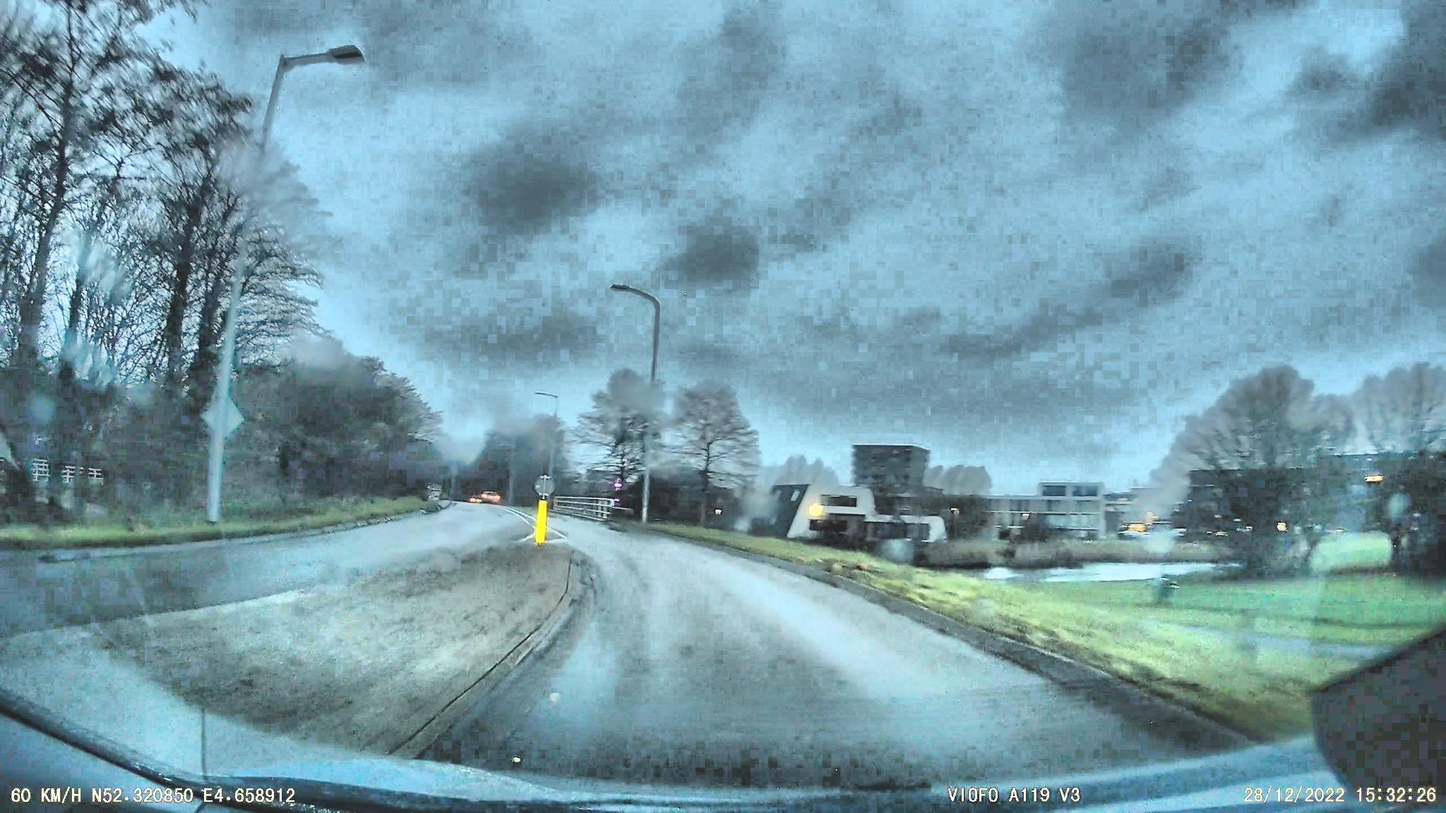Roads: (441, 518, 1315, 804)
